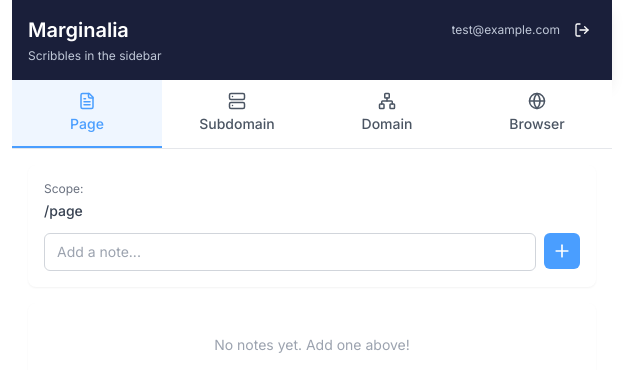
Scenario: App › App - Main Functionality › should update context when tab changes
Expected: the text with test id "current-scope" reads "/page", [44, 202, 83, 219]
# Switch to domain tab
Step 1. Click the tab with test id "tab-domain" → x=387, y=114, box [312, 80, 462, 148]
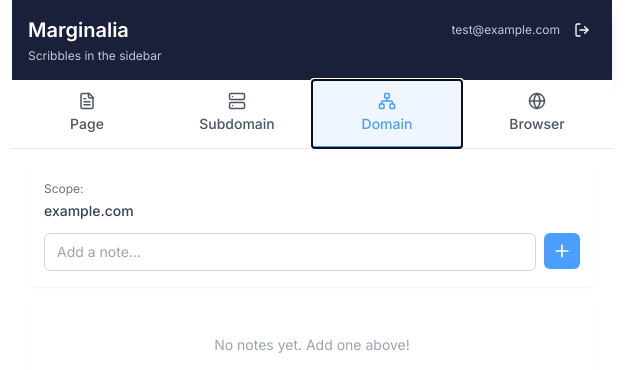
Expected: the text "example.com" is shown, [44, 202, 134, 219]
